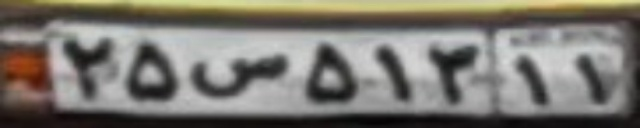1: (375, 42, 410, 99), (511, 53, 547, 105), (571, 52, 607, 104)
2: (60, 34, 113, 96)
3: (429, 42, 477, 105)
5: (300, 40, 357, 101), (124, 39, 178, 98)
sin: (188, 51, 289, 96)
